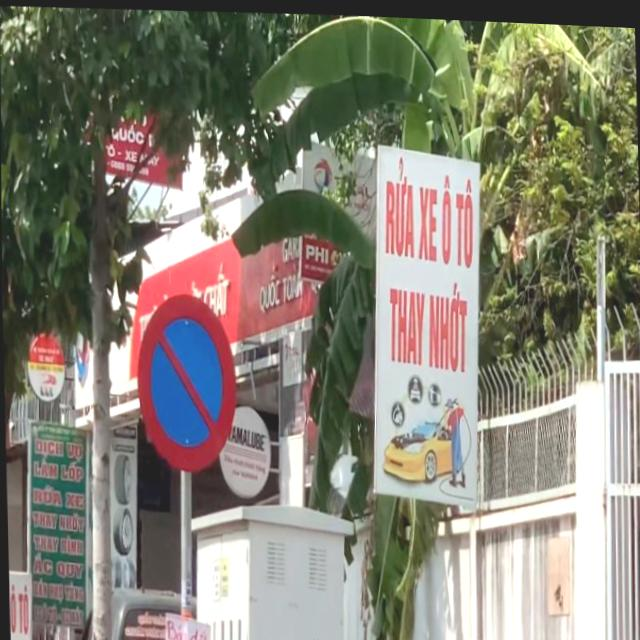Cam do xe: (134, 287, 239, 473)
